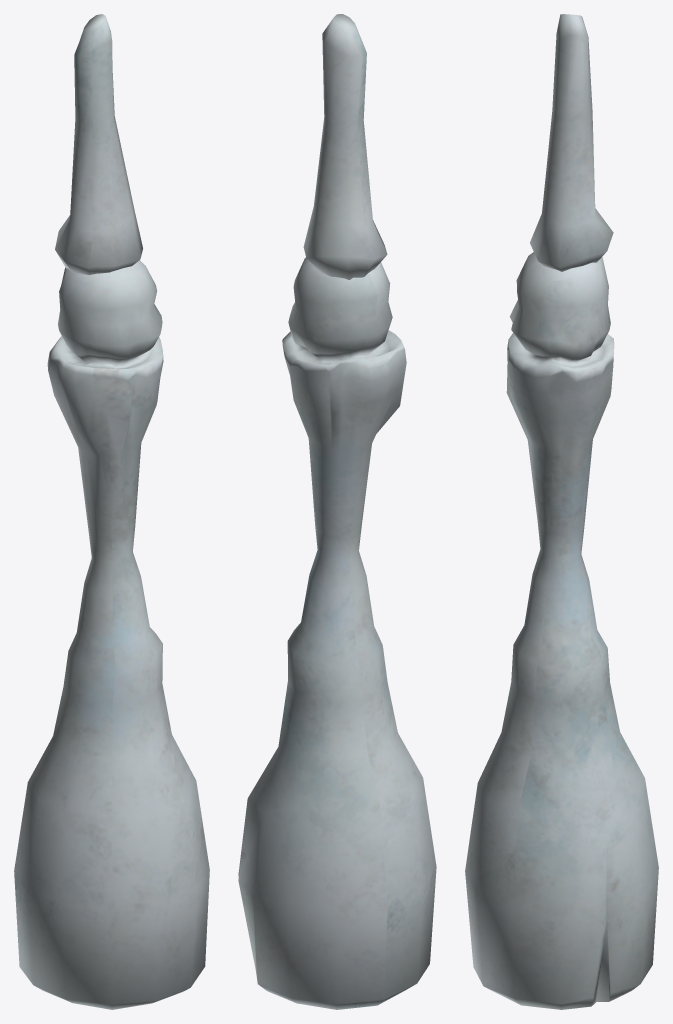
Rendered from P_RockDesert_Hoodoo09.obj.
The picture shows the model from 3 angles, left to right: view 1: azimuth 30°, elevation 25°; view 2: azimuth 150°, elevation 25°; view 3: azimuth 270°, elevation 25°; orthographic projection.
Bounding box in the file's own units: 4.22 × 23.02 × 4.19.
